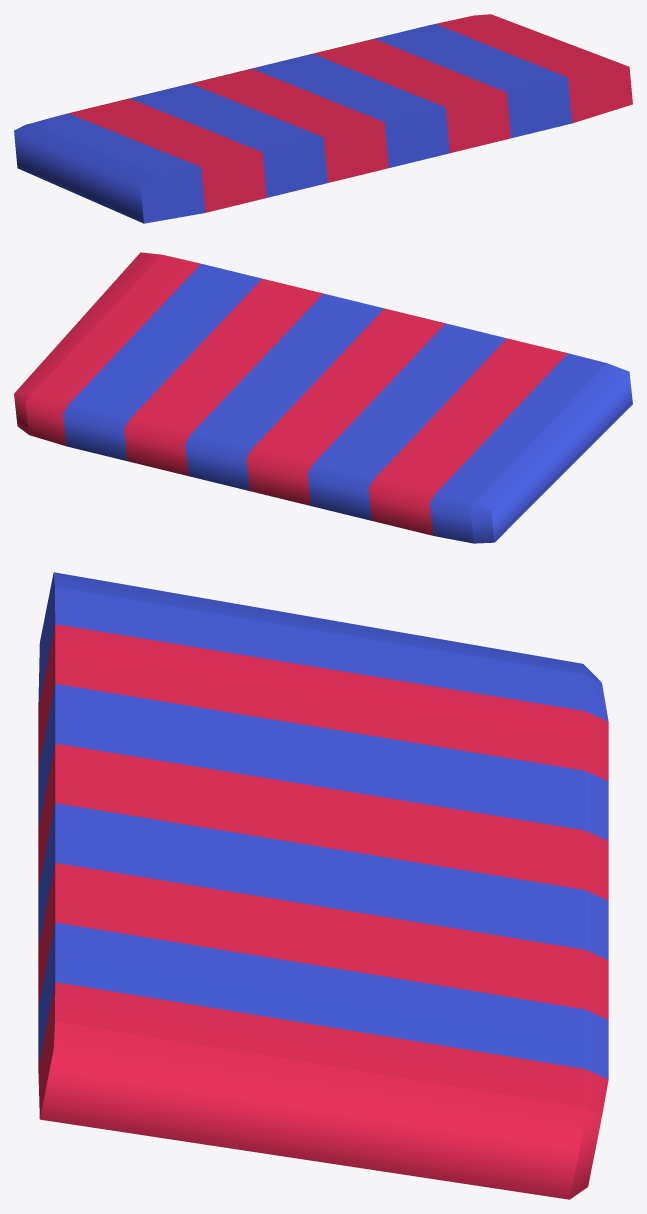
File: house_roof_a02.glb
3 views of the same model, one above another, from view 1: azimuth 30°, elevation 25°; view 2: azimuth 150°, elevation 25°; view 3: azimuth 270°, elevation 25° (orthographic). The views are drawn at different scales.
Visible parts, largest first — view 1: Cube.157; view 2: Cube.157; view 3: Cube.157.
Part boxes in pixels (x1=…): Cube.157: x1=14, y1=14, x2=632, y2=223; Cube.157: x1=14, y1=252, x2=632, y2=543; Cube.157: x1=38, y1=572, x2=608, y2=1199.
Size of the model in its own units: 2.05 by 0.3366 by 1.04.
